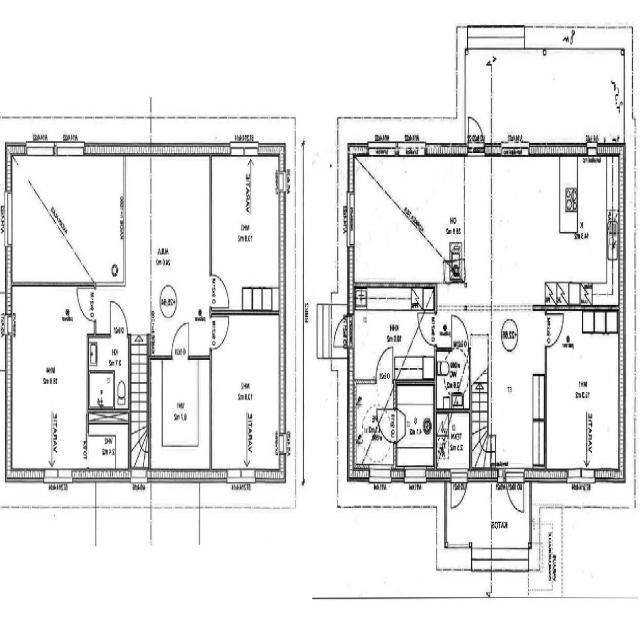door: (506, 467, 524, 515), (468, 112, 484, 156), (452, 467, 468, 511), (394, 408, 414, 442), (110, 299, 128, 336), (332, 316, 354, 346), (172, 323, 189, 359), (545, 314, 564, 346), (418, 312, 437, 344), (210, 275, 229, 307), (452, 314, 468, 350), (210, 316, 228, 348), (78, 288, 96, 320), (406, 351, 420, 384)
